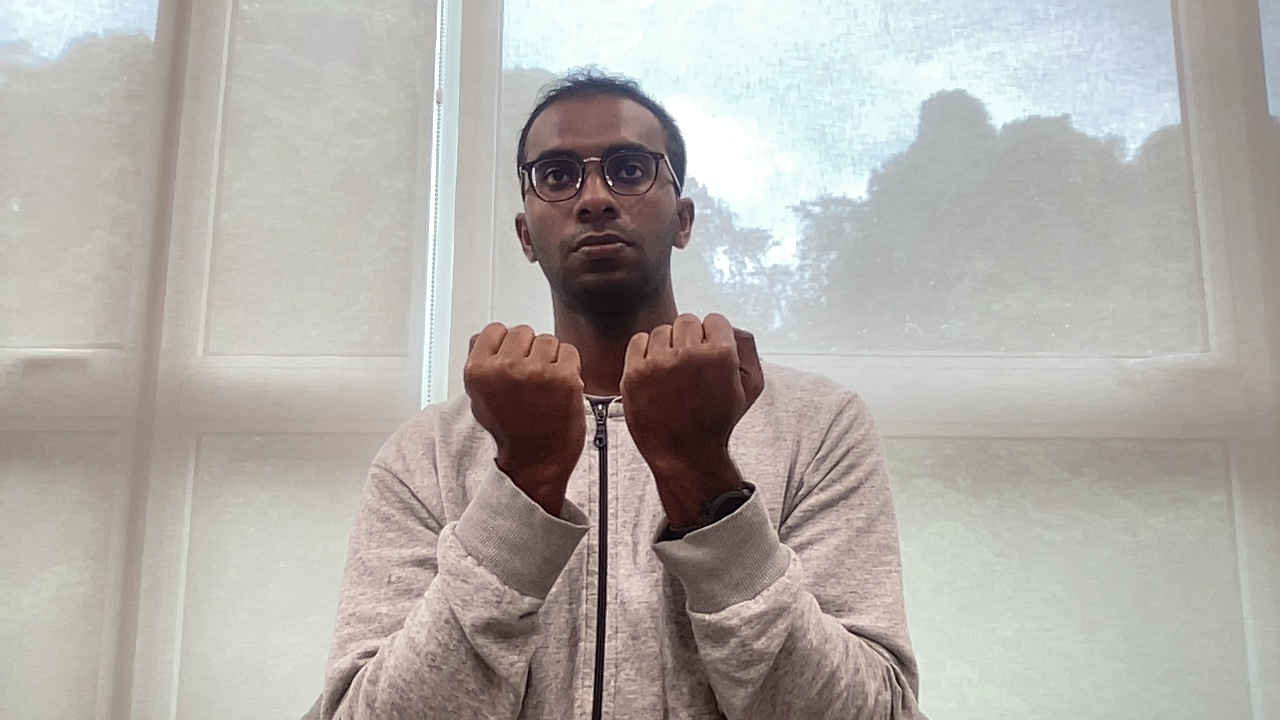finish: (454, 314, 771, 450)
